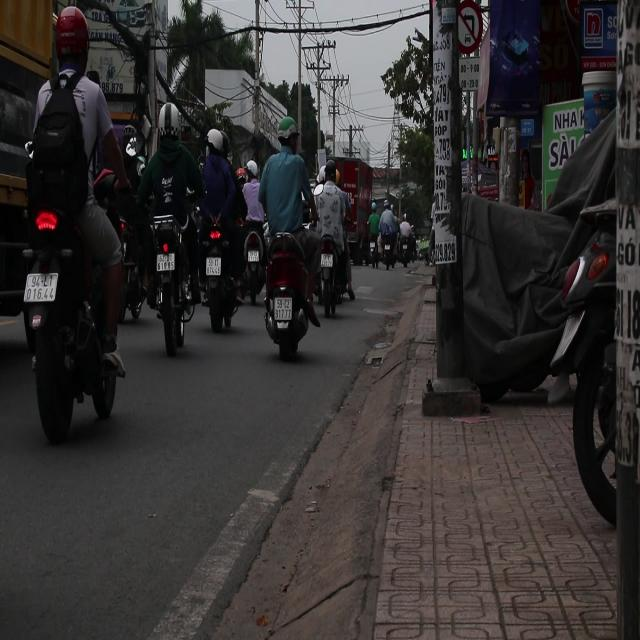motorbike: (545, 163, 640, 553), (20, 164, 124, 434), (260, 227, 323, 360), (144, 212, 199, 358), (197, 208, 246, 338), (236, 217, 268, 306), (312, 236, 345, 317), (398, 216, 416, 266)
